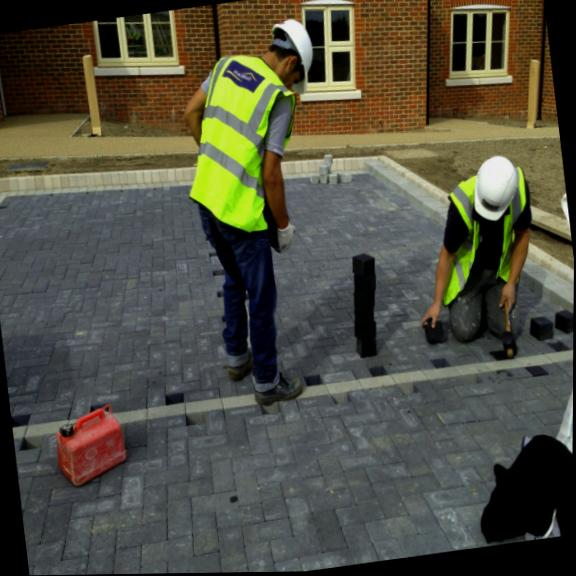safety_vest: (166, 62, 318, 251)
